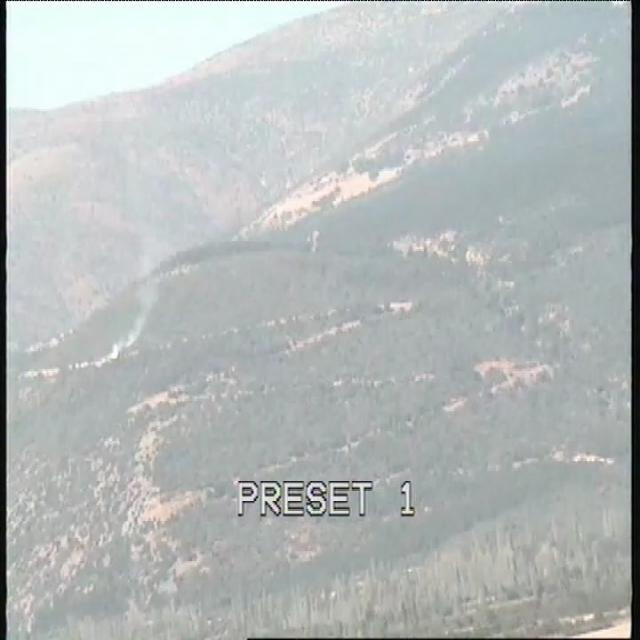smoke: (92, 260, 164, 362)
